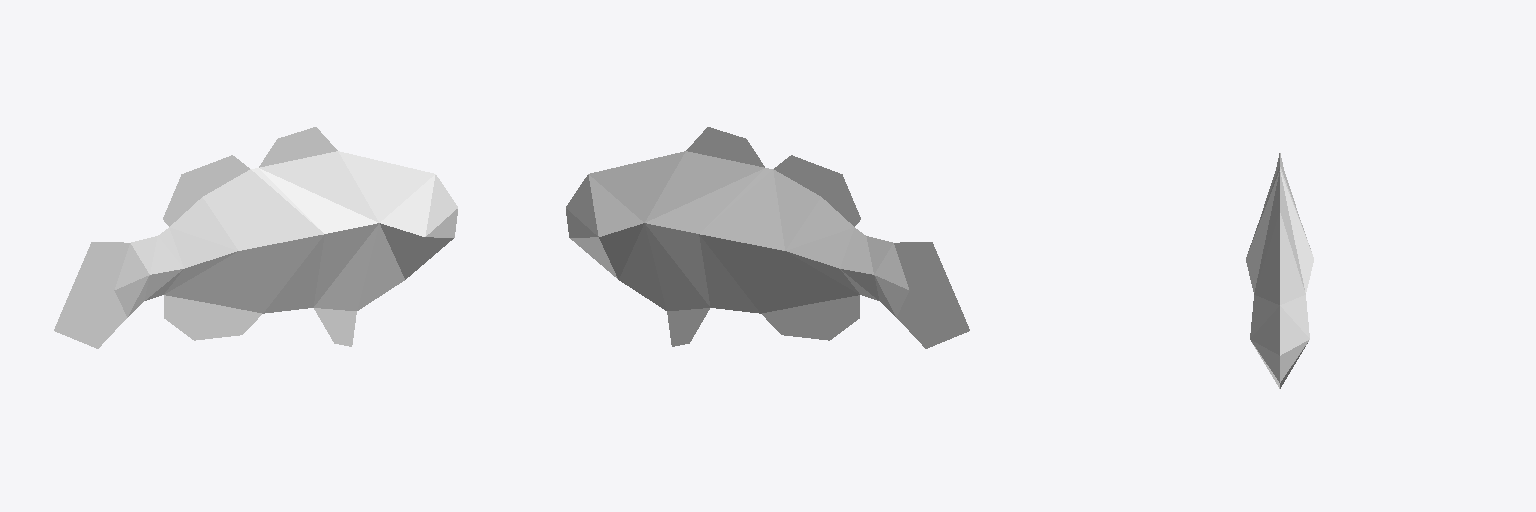
File: clownfish.obj
The picture shows the model from 3 angles: view 1: azimuth 30°, elevation 25°; view 2: azimuth 150°, elevation 25°; view 3: azimuth 270°, elevation 25°; orthographic projection.
Size of the model in its own units: 2.79 by 1.51 by 0.4107.